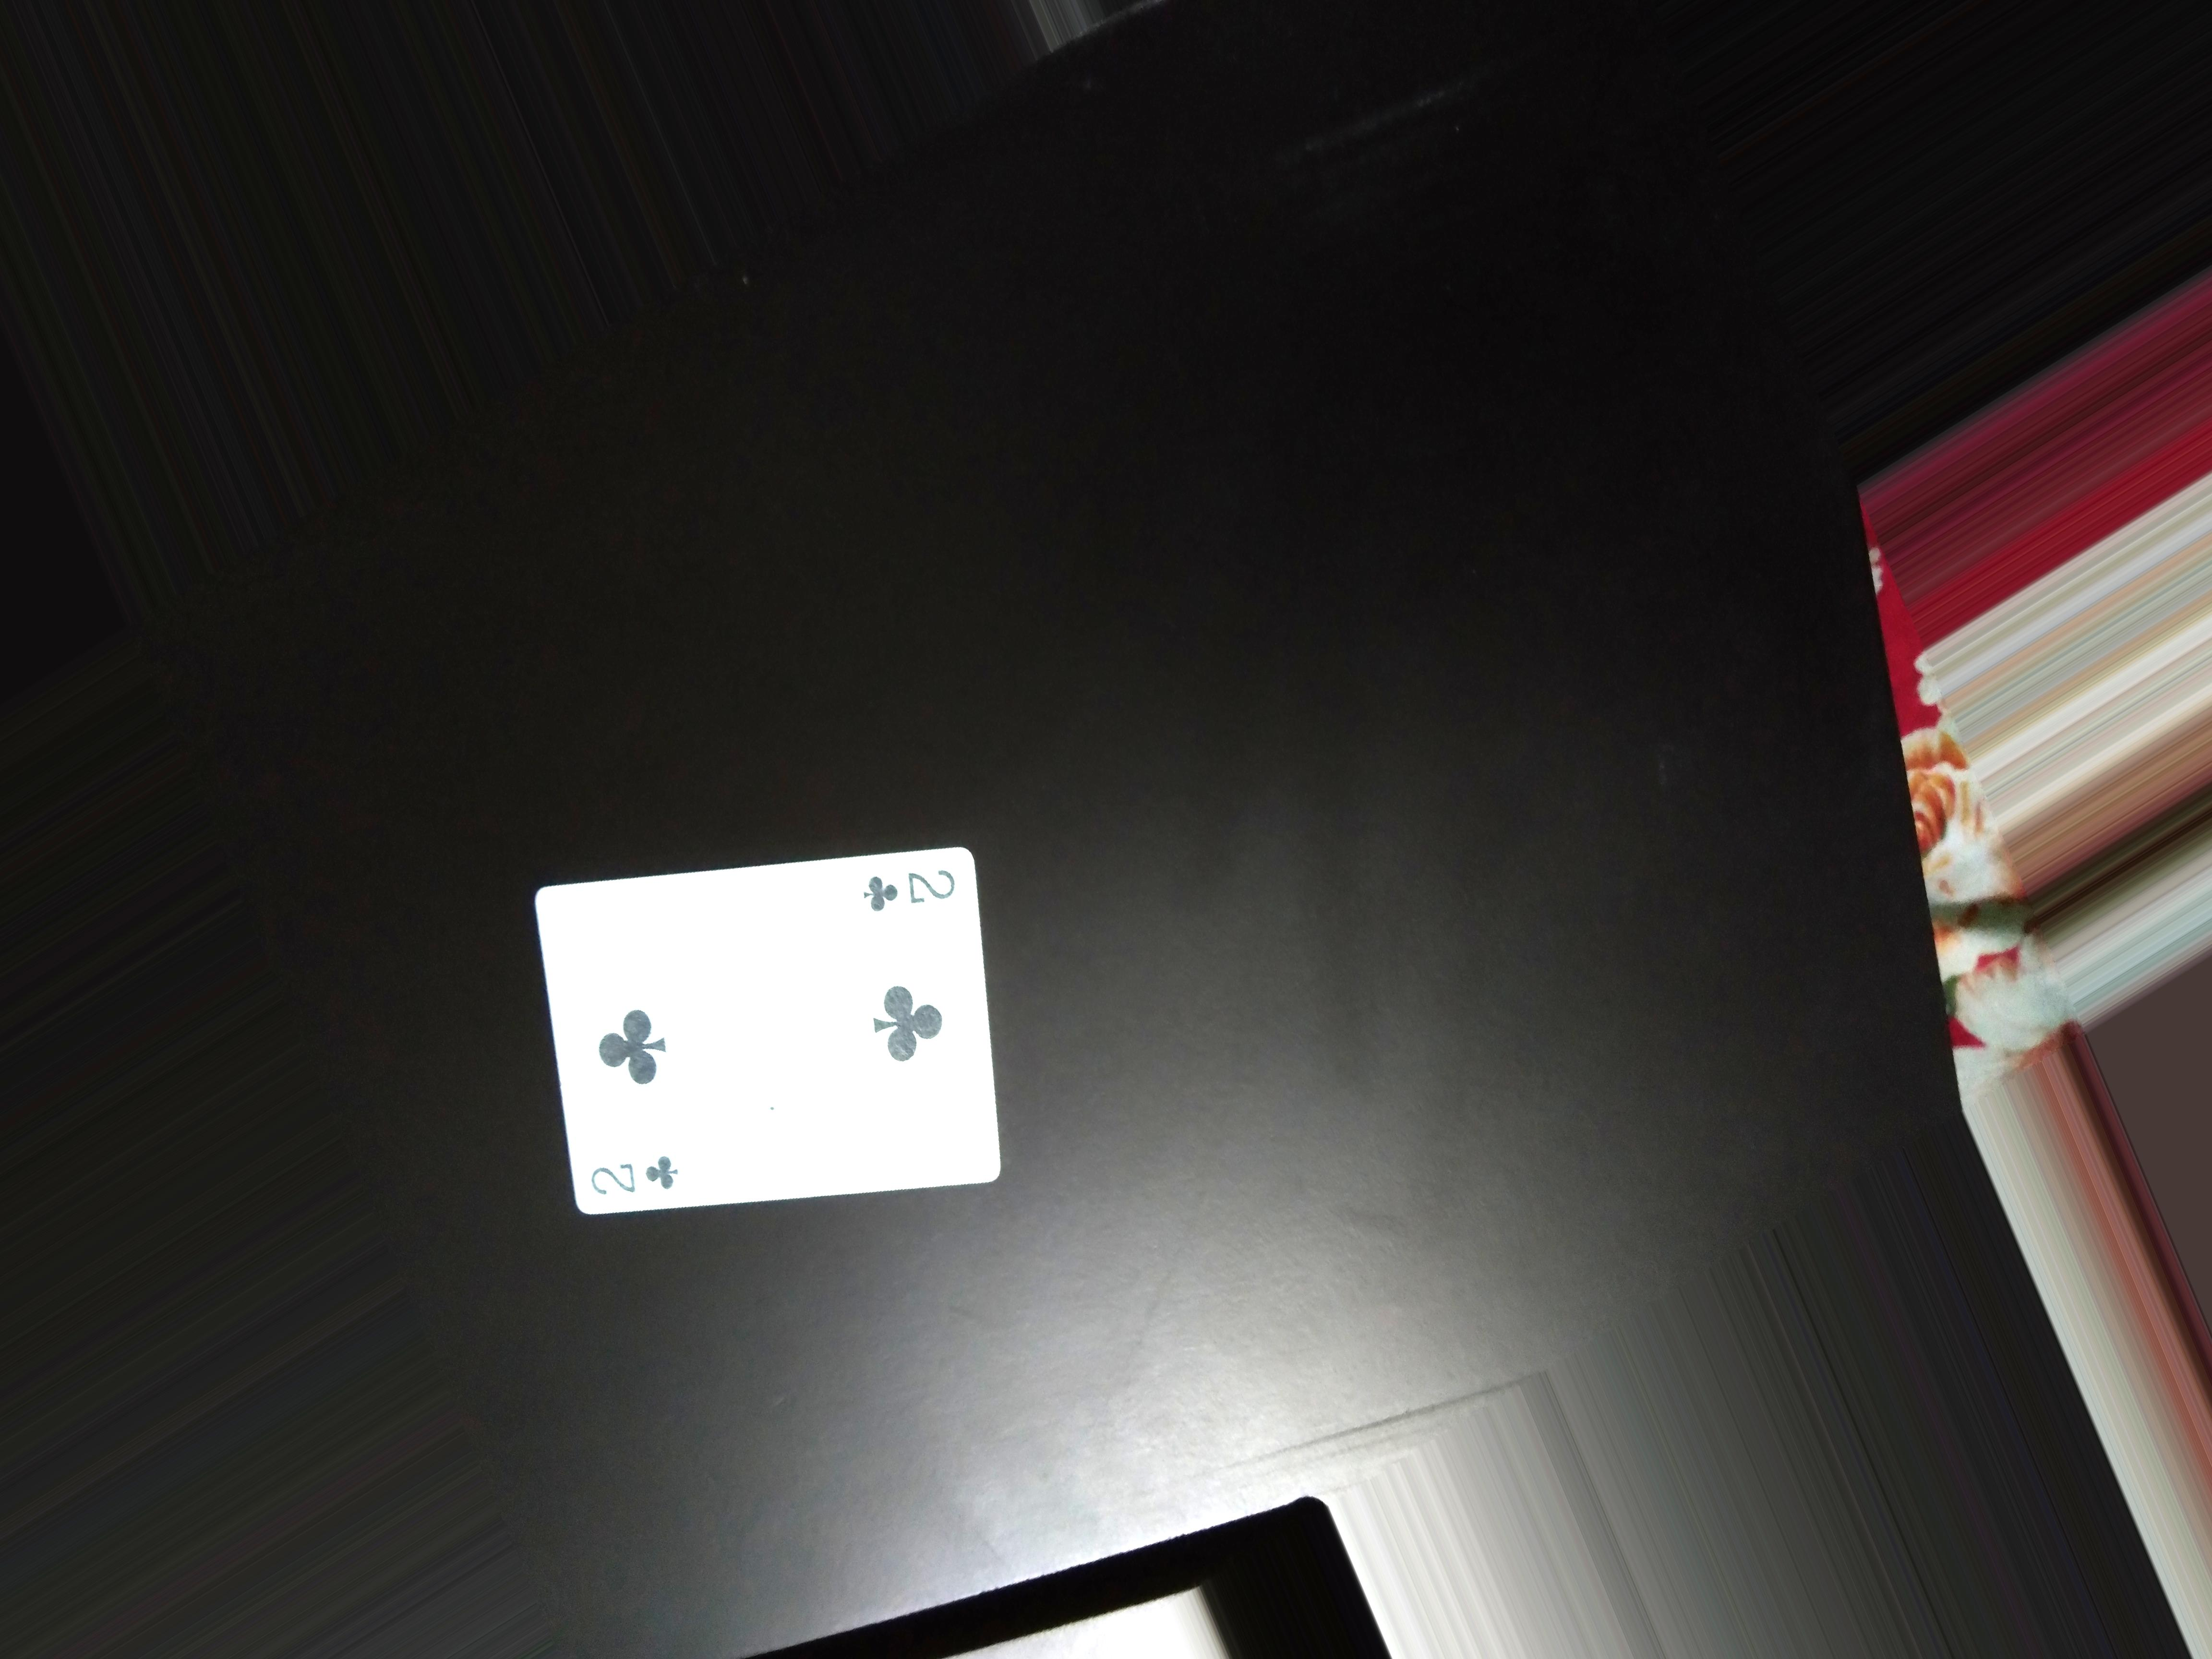2C: (580, 1157, 709, 1206)
